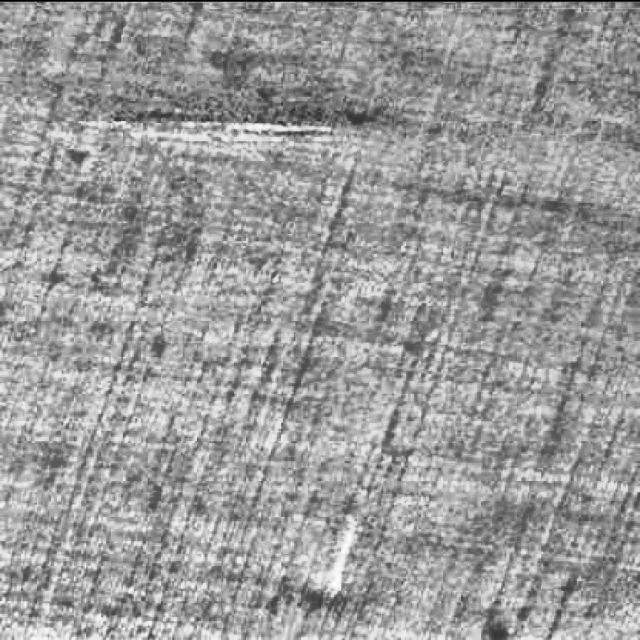thread_error: (70, 108, 351, 159), (306, 486, 374, 608)
